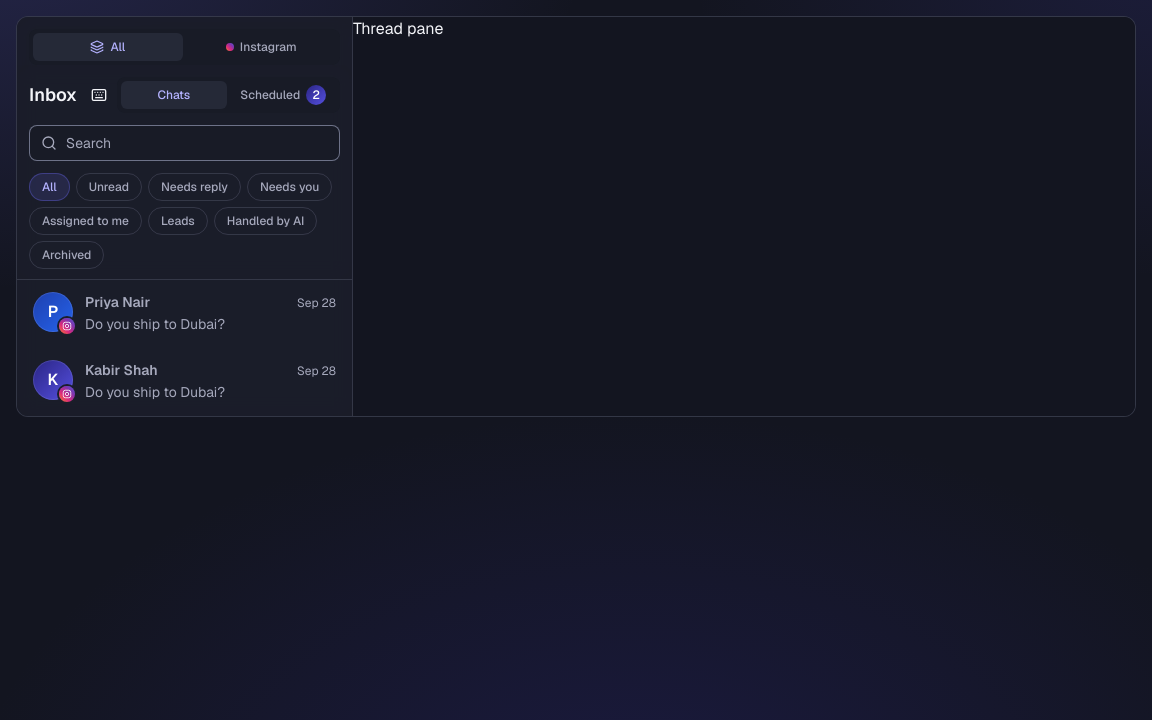
it: InboxShell list states (§4.7) › Chats and Scheduled are tabs that swap the list; the Scheduled tab names its count
The image size is (1152, 720).
Check: the text "Kabir Shah" is shown, box [85,361,158,379]
Check: the text with test id "scheduled-count" reads "2", box [312,87,320,103]
Step 1. Click the tab with aria-label "Scheduled, 2 to send" → click(283, 95), box [231,81,336,109]
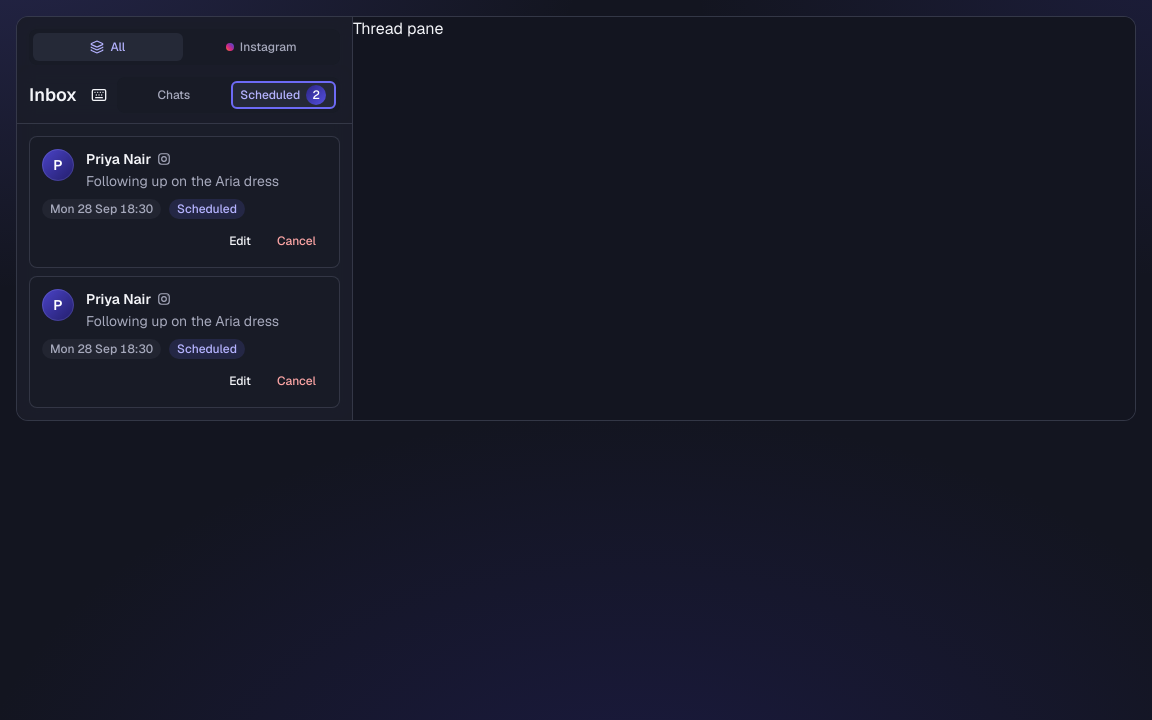
Check: the list named "Scheduled messages" is shown, box [29,136,340,408]
Check: the list "Conversations" is gone
Check: the list "Search conversations" is gone
